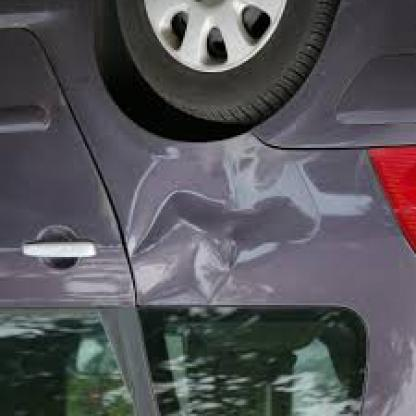dent: (138, 150, 306, 302)
